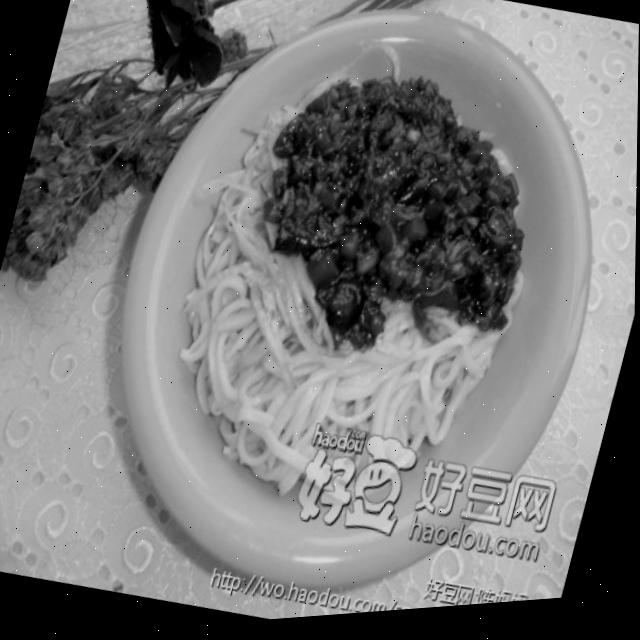面条主食: (75, 0, 626, 624)
